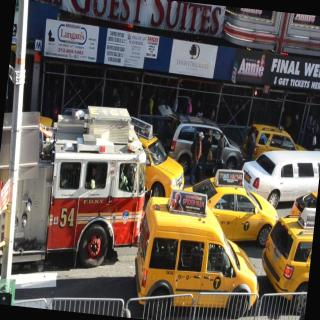Fire_truck: (0, 95, 154, 283)
